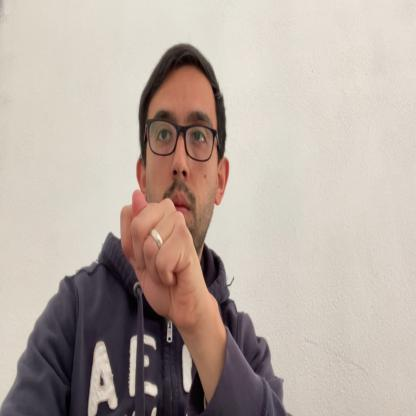T: (120, 189, 202, 326)
